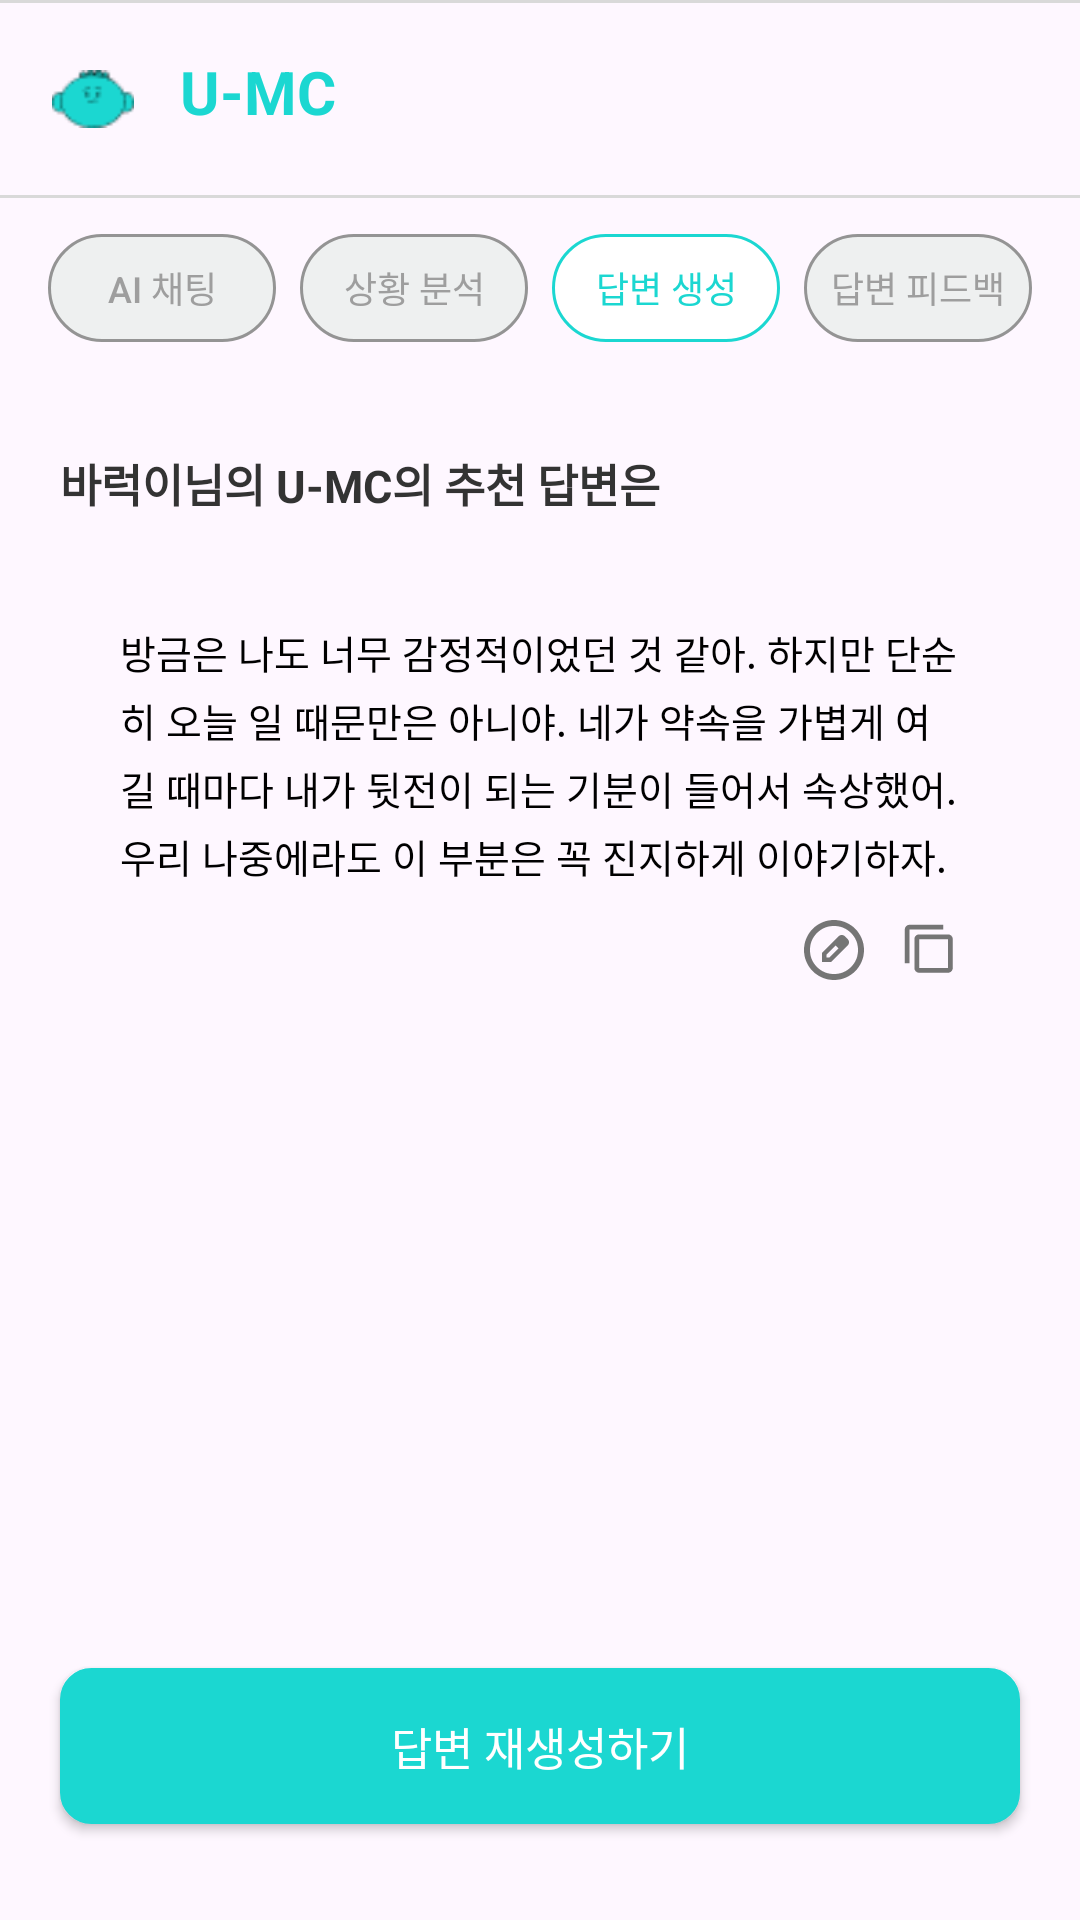

Screen size 1080 × 1920. Icon name, then its box in pixels as (x1, y1, x2, y2):
edit: (804, 920, 864, 980)
filter none: (904, 924, 953, 973)
